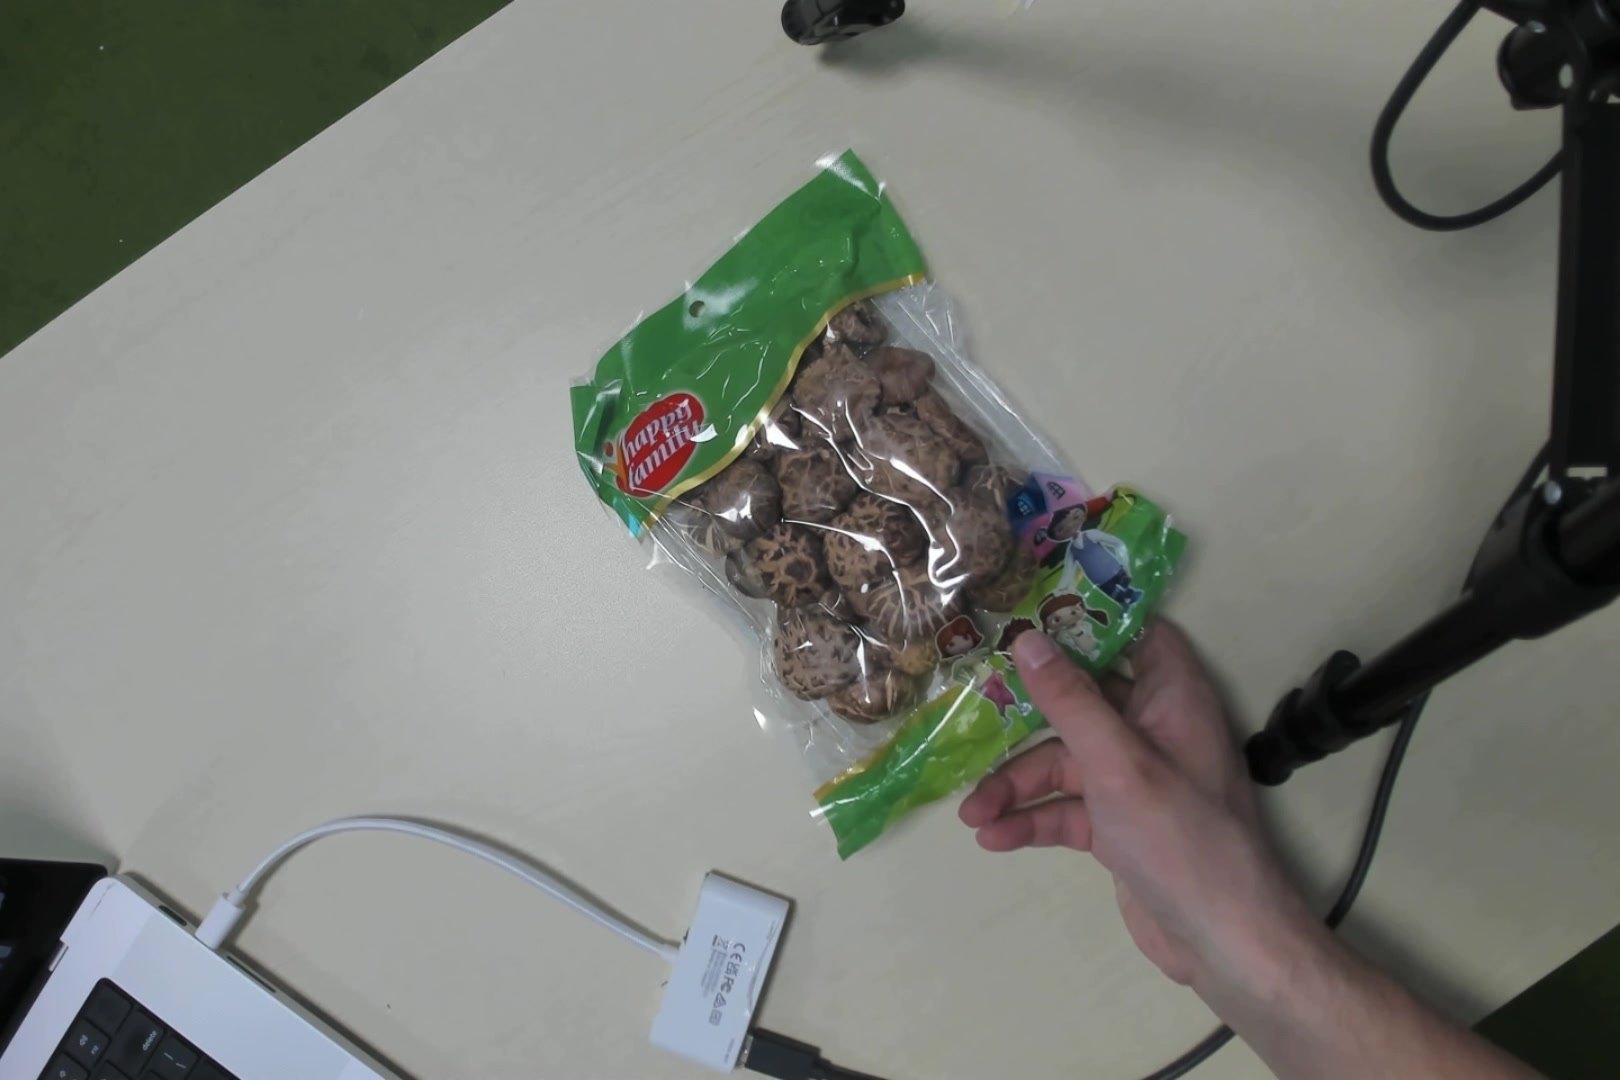OtherDriedFood_100-199g_NonHalal_NonHealthy: (595, 253, 1126, 790)
